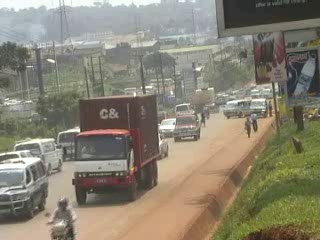Car: (173, 112, 201, 144), (157, 115, 182, 137), (155, 130, 170, 160)
Motorcycle: (40, 198, 82, 240)
